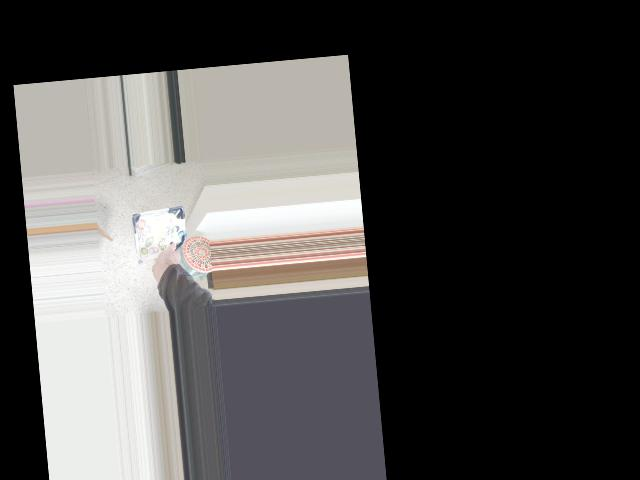cheese: (124, 207, 196, 280)
